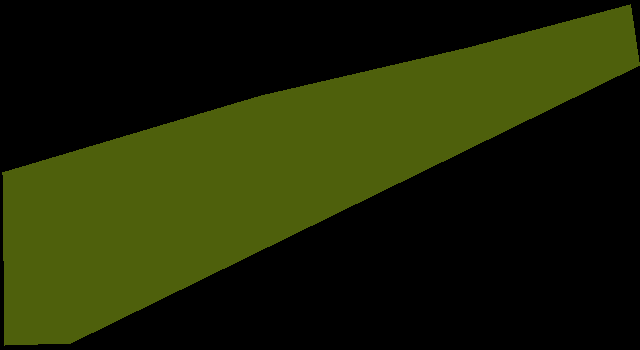Train: (2, 4, 640, 346)
